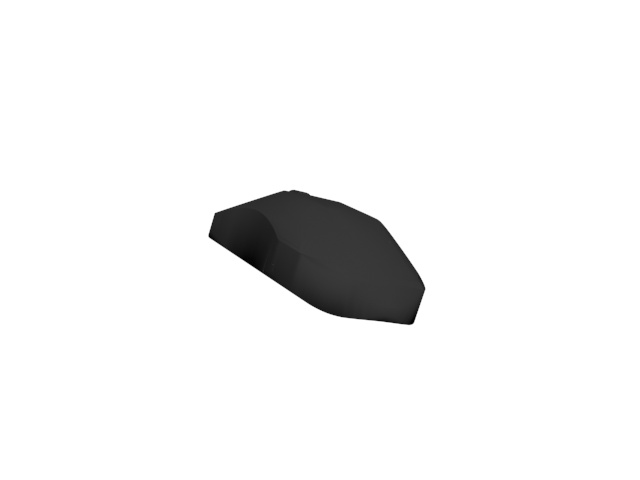mouse: (209, 185, 432, 328)
